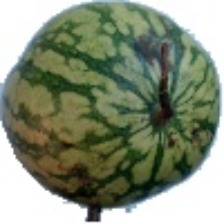watermelon: (34, 47, 209, 183)
